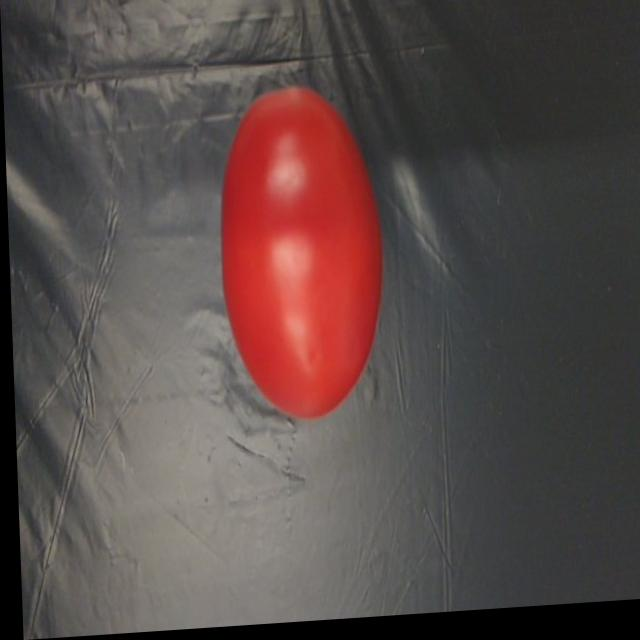kirmizi: (208, 72, 394, 441)
